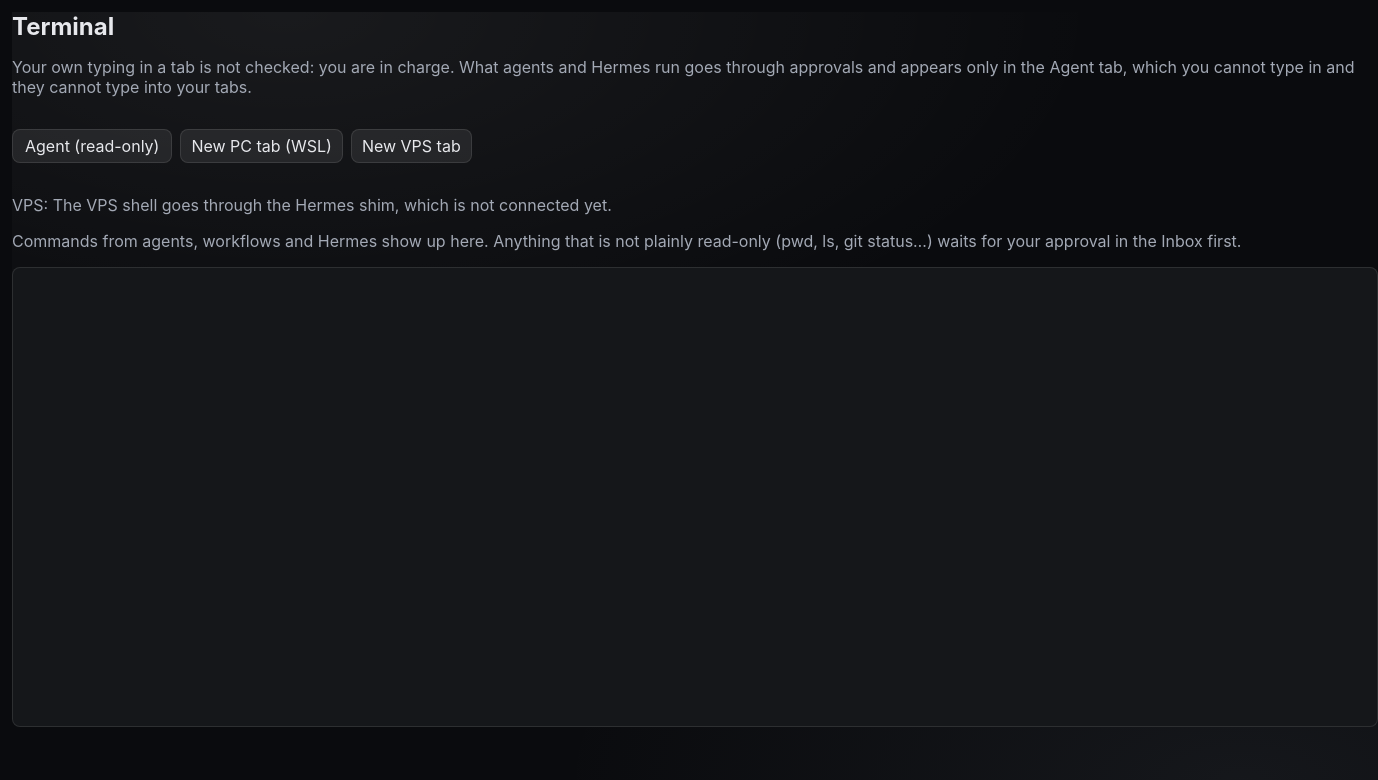
Test: Terminal page › opens a PC tab, shows its output, and sends what you type in bursts, plus the size
Click the button "New PC tab (WSL)" at (262, 146), box [180, 129, 343, 163]
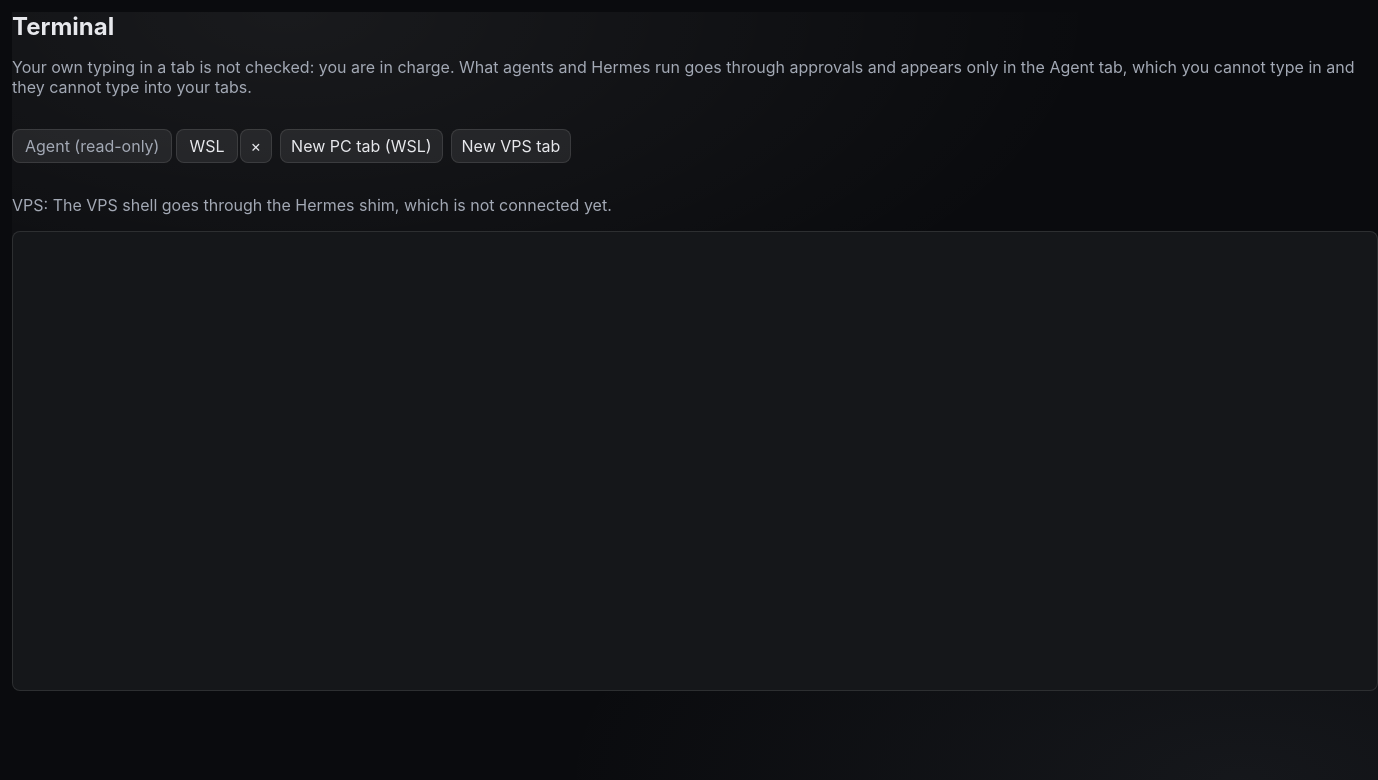
Result: the tab "WSL" is shown at [176, 129, 238, 163]
